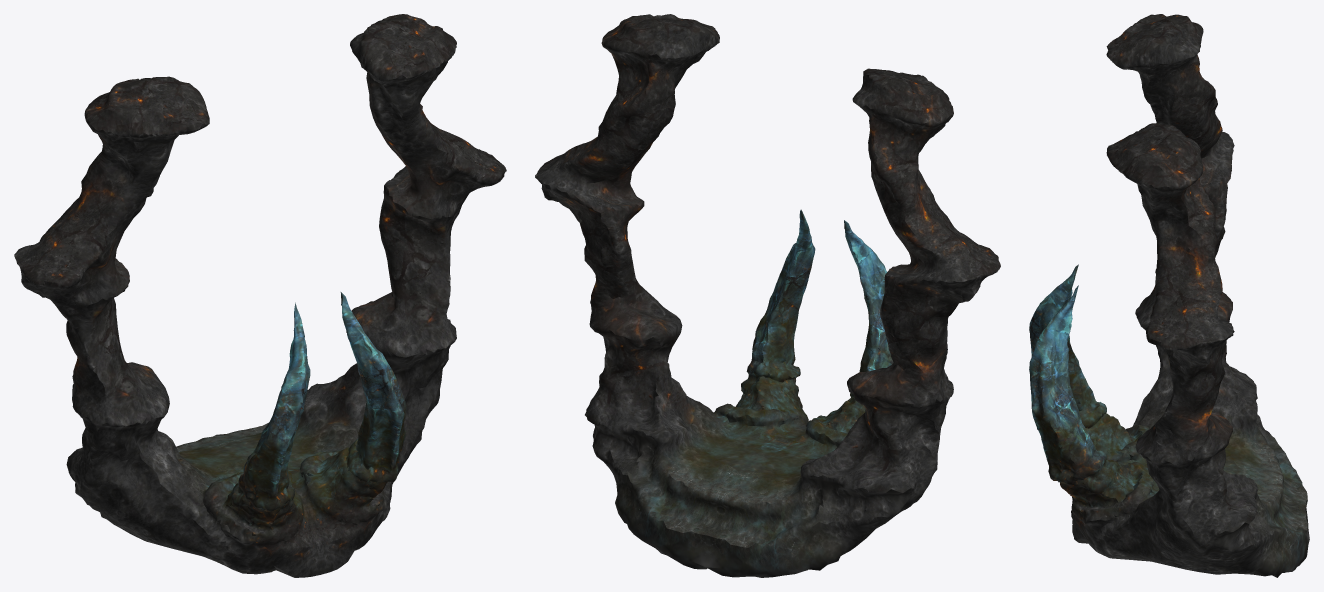
File: portal.obj
3 views of the same model, side by side, from view 1: azimuth 30°, elevation 25°; view 2: azimuth 150°, elevation 25°; view 3: azimuth 270°, elevation 25° (orthographic). The views are drawn at different scales.
Parts seen in each view (by area): view 1: mesh01; view 2: mesh01; view 3: mesh01.
Part boxes in pixels (left/top/right/bottom): mesh01: left=14, top=14, right=506, bottom=577; mesh01: left=535, top=14, right=1000, bottom=577; mesh01: left=1029, top=14, right=1309, bottom=577.
Size of the model in its own units: 181 by 184 by 99.46.
